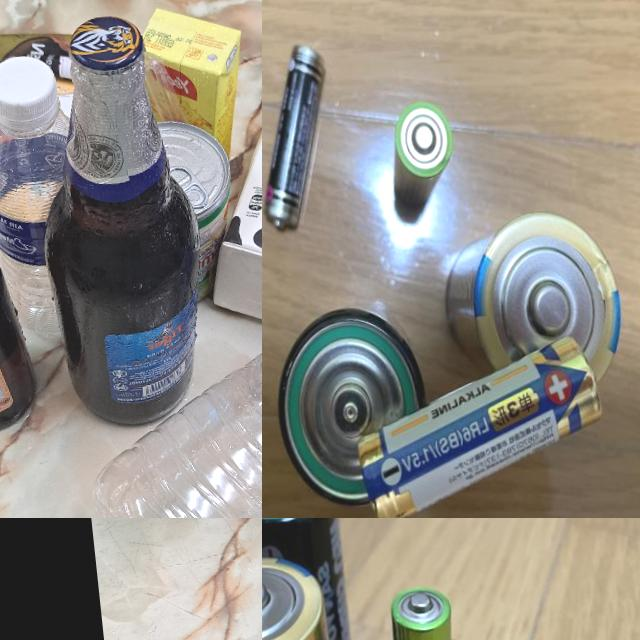aba de lata: (165, 163, 208, 210)
bateria: (343, 328, 613, 518), (427, 200, 634, 427), (268, 298, 444, 517), (262, 37, 341, 233), (262, 518, 363, 640), (379, 96, 460, 222), (262, 547, 364, 640), (381, 580, 475, 640)
caixinha: (182, 11, 262, 343), (132, 1, 252, 163)
garrafa de vidro: (21, 8, 214, 434), (0, 140, 43, 439)
garrafa plástica: (70, 254, 262, 518), (0, 107, 91, 347)
lata: (148, 112, 244, 307), (0, 21, 94, 107)
tampa plástica: (0, 52, 63, 132)
